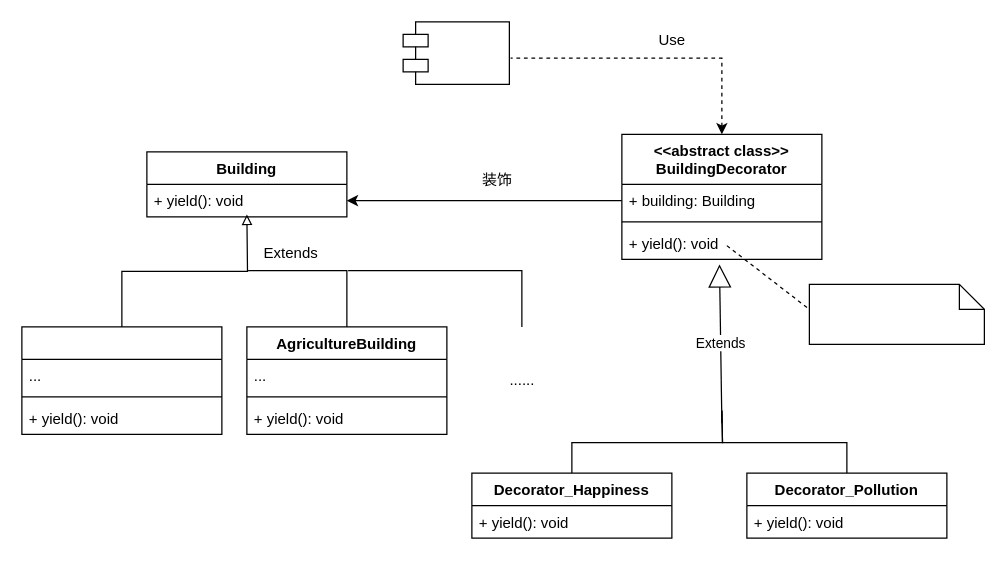
Image size: 1006x564. Some labels were removed from this diagram. Each missing label, with the box of its shape:
AcademicBuilding: (21, 326, 222, 434)
外部系统: (402, 21, 509, 84)
对原方法添加额外功能: (808, 283, 984, 344)
